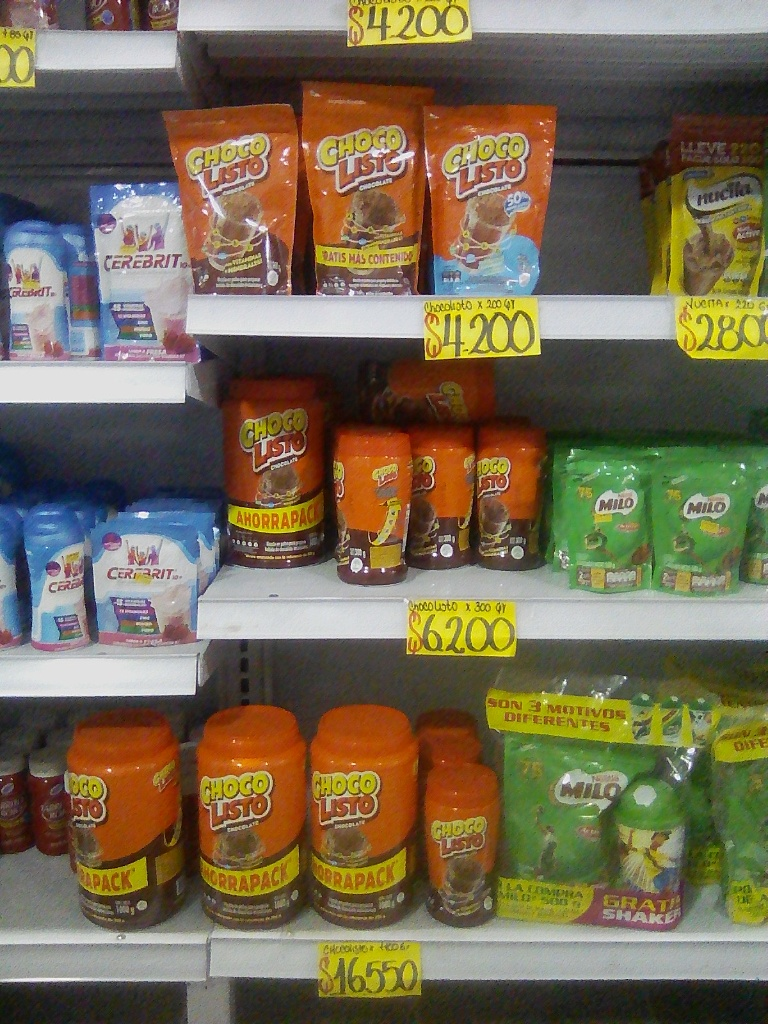COL0170103TRR00100: (227, 370, 330, 570)
COL0170104DYP20000: (433, 100, 543, 299)
COL0170203DYP10000: (544, 433, 638, 595)
